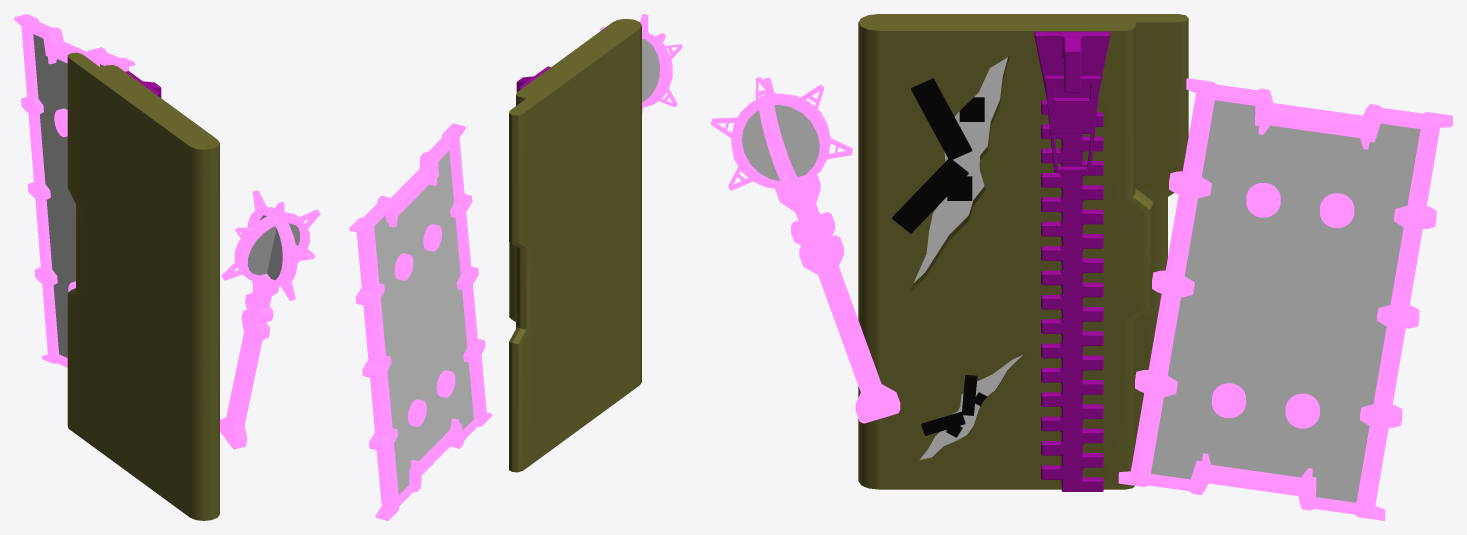
Rendered from Lvl 4 Zip.fbx.
The picture shows the model from 3 angles, left to right: view 1: azimuth 30°, elevation 25°; view 2: azimuth 150°, elevation 25°; view 3: azimuth 270°, elevation 25°; orthographic projection. The views are drawn at different scales.
Visible parts, largest first — view 1: Zip_Troop_; view 2: Zip_Troop_; view 3: Zip_Troop_.
Part boxes in pixels (x1=…): Zip_Troop_: x1=14, y1=14, x2=320, y2=520; Zip_Troop_: x1=349, y1=14, x2=682, y2=520; Zip_Troop_: x1=711, y1=14, x2=1452, y2=520.
Size of the model in its own units: 0.4761 by 1.87 by 2.7.
